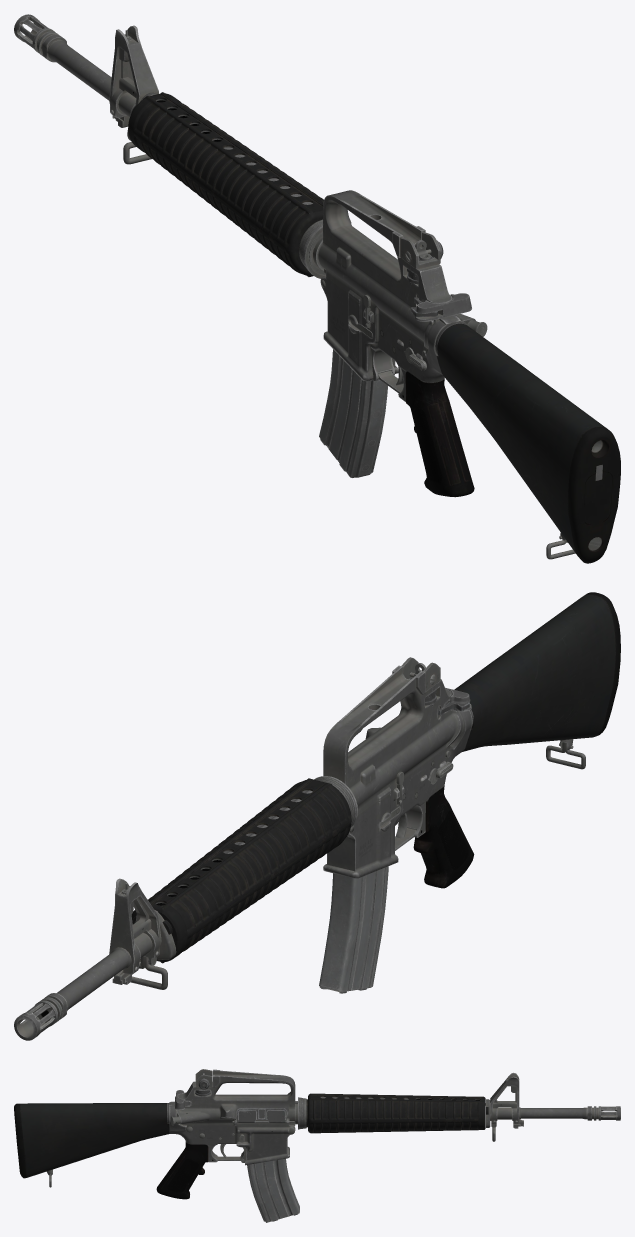
File: m16a2-real.glb
The picture shows the model from 3 angles, top to bottom: view 1: azimuth 30°, elevation 25°; view 2: azimuth 150°, elevation 25°; view 3: azimuth 270°, elevation 25°; orthographic projection. The views are drawn at different scales.
Parts seen in each view (by area): view 1: Body, Magazine; view 2: Body, Magazine; view 3: Body, Magazine, EjectionPortCover.
Part boxes in pixels (<box>): Body: <box>14,14,620,563</box>; Magazine: <box>319,349,387,477</box>; Body: <box>14,592,620,1040</box>; Magazine: <box>319,866,388,993</box>; Body: <box>14,1069,620,1199</box>; Magazine: <box>247,1158,299,1222</box>; EjectionPortCover: <box>236,1108,286,1122</box>.
Bounding box in the file's own units: 0.0705 × 0.2691 × 1.
1 material, 1 textured.
